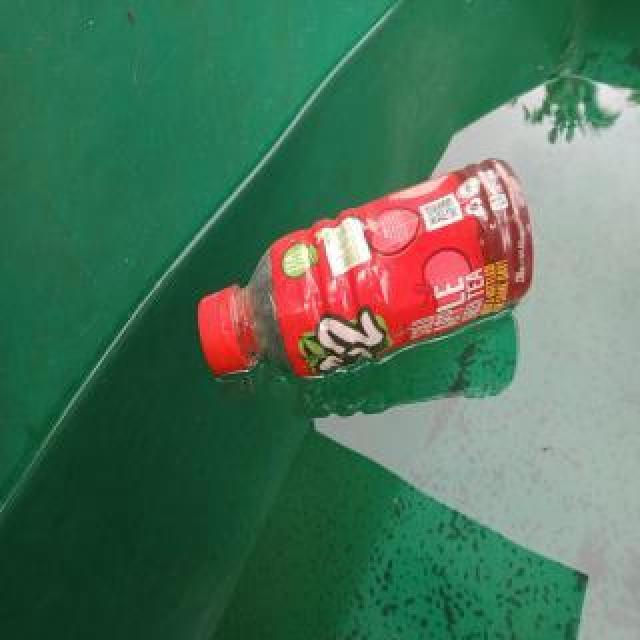bottle: (198, 153, 534, 379)
